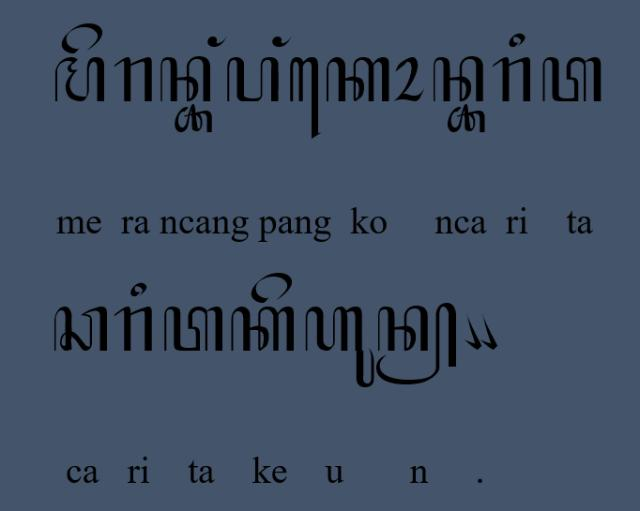-n: (374, 302, 458, 386)
_c: (447, 102, 488, 134), (173, 104, 214, 134)
c: (52, 304, 110, 354)
e: (60, 22, 104, 56), (249, 272, 293, 304)
e1: (290, 56, 322, 140)
hu: (304, 304, 376, 390)
i: (508, 31, 526, 49), (130, 282, 148, 298)
k: (324, 56, 392, 104), (230, 304, 294, 354)
kom: (463, 312, 482, 350), (480, 311, 498, 351)
m: (54, 55, 106, 105)
n: (160, 56, 212, 104), (432, 55, 484, 103)
ng: (206, 33, 228, 49), (270, 35, 292, 49)
o: (392, 55, 426, 103)
p: (225, 56, 281, 104)
r: (492, 55, 532, 105), (115, 306, 154, 354), (115, 56, 154, 102)
t: (540, 54, 604, 102), (163, 305, 225, 353)
